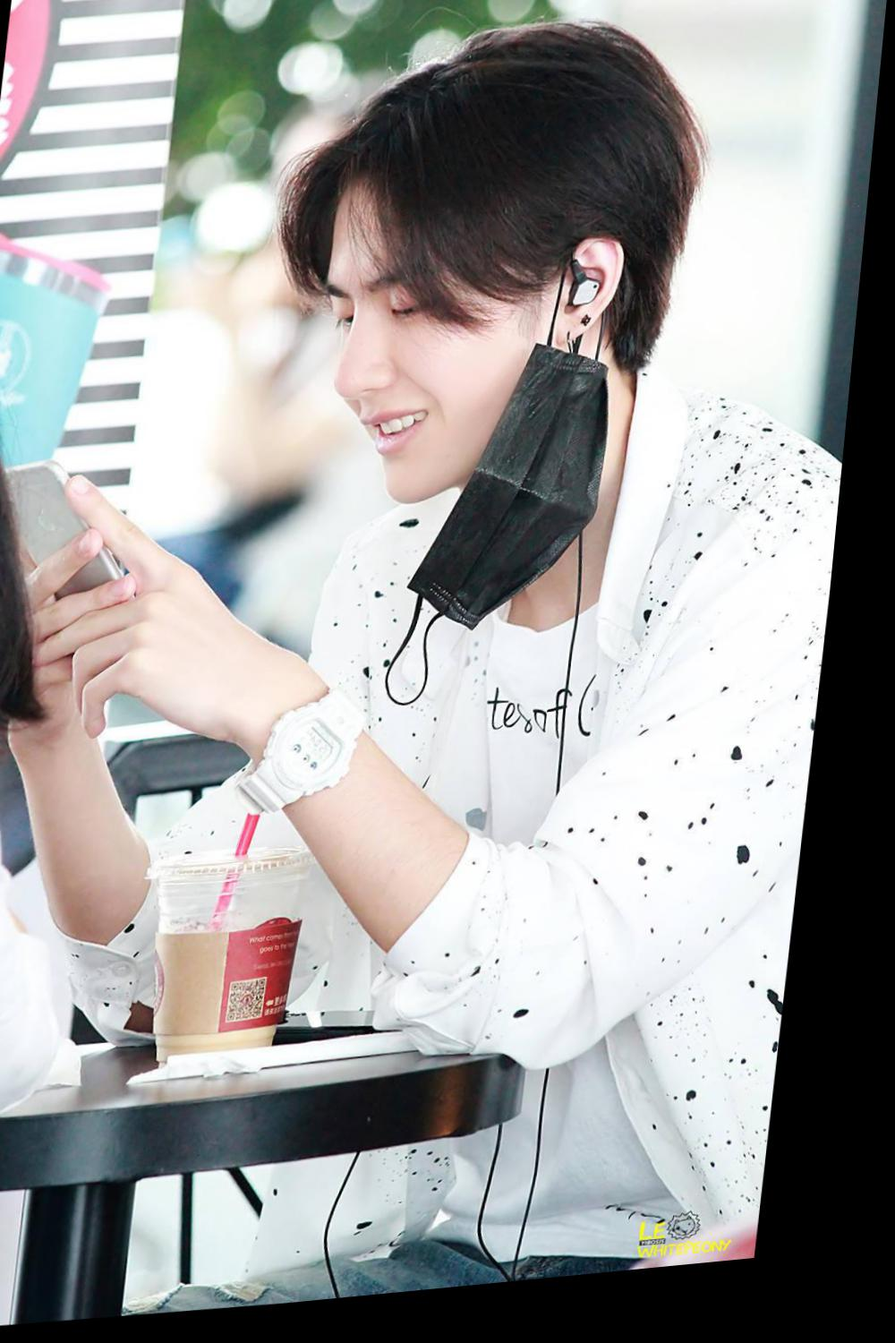WRONG: (311, 223, 565, 528)
